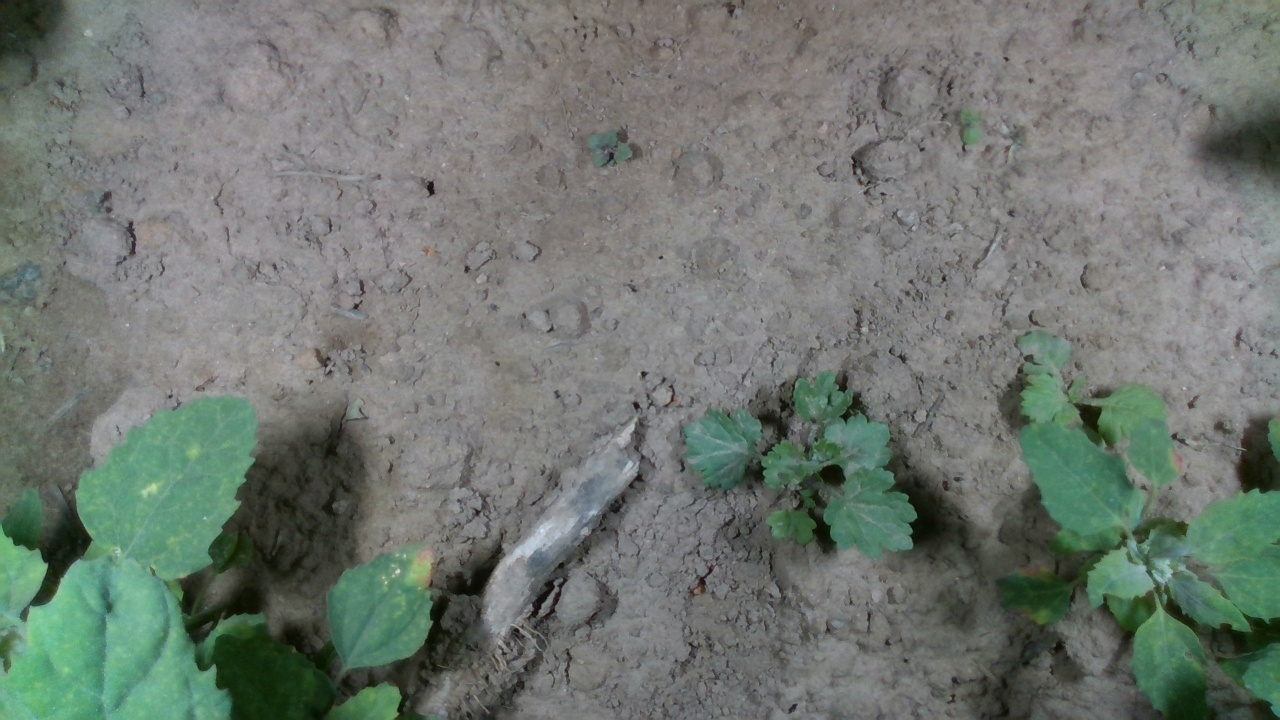weed: (582, 127, 636, 172), (955, 105, 983, 149)
